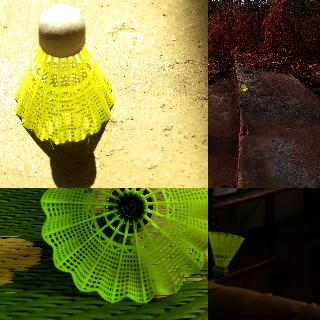shuttlecock: (39, 188, 207, 305), (15, 6, 114, 142), (208, 231, 245, 279), (240, 84, 250, 90)
